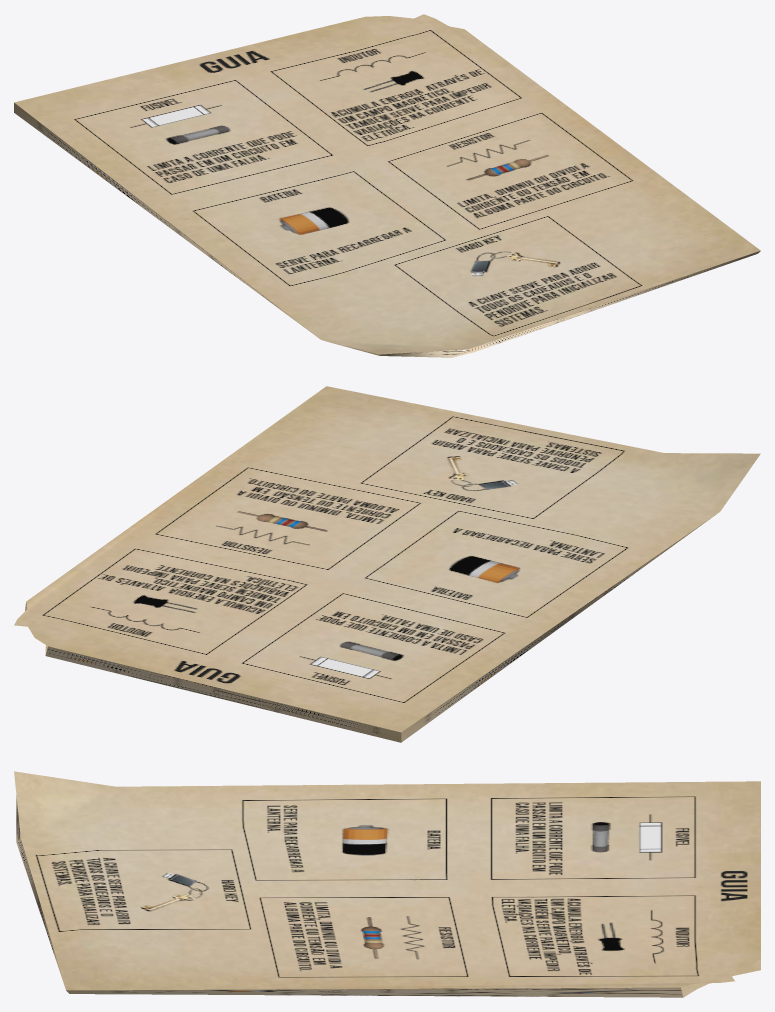
The model's file is papel_dica.FBX.
The picture shows the model from 3 angles, top to bottom: view 1: azimuth 30°, elevation 25°; view 2: azimuth 150°, elevation 25°; view 3: azimuth 270°, elevation 25°; orthographic projection. The views are drawn at different scales.
Parts seen in each view (by area): view 1: Box001; view 2: Box001; view 3: Box001.
Part boxes in pixels (x1,y1,x2,y2): Box001: [14, 14, 760, 357]; Box001: [14, 386, 760, 742]; Box001: [14, 771, 760, 997].
Size of the model in its own units: 50.91 by 2.55 by 76.5.
1 material, 1 textured.
